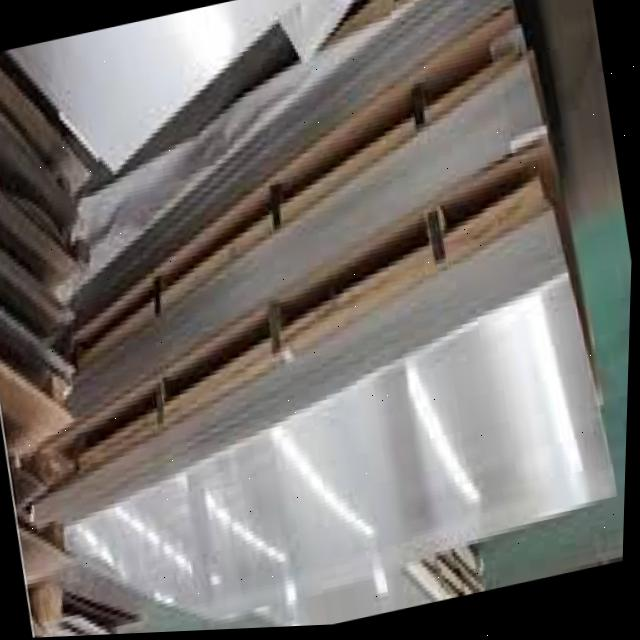Dry: (14, 0, 618, 616)
